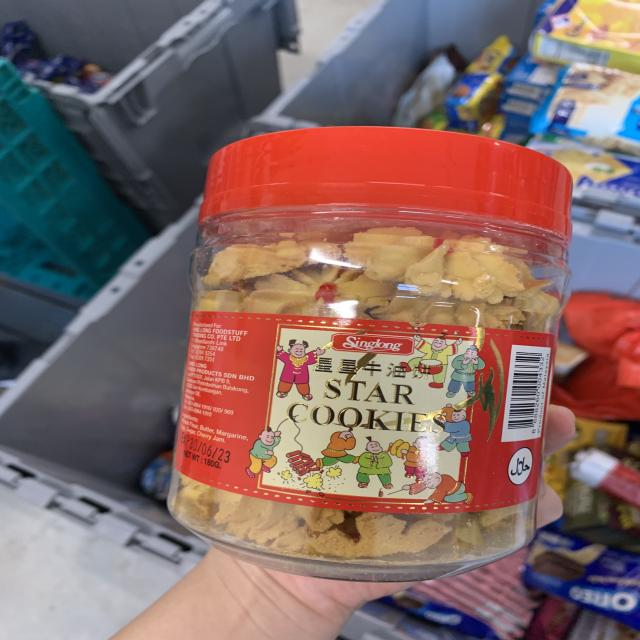object_name: (216, 149, 537, 559)
